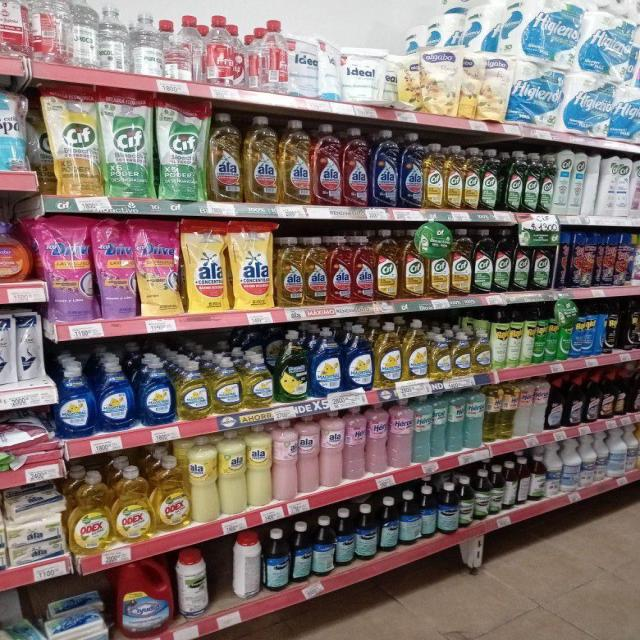ala_conc_amarillo: (208, 111, 242, 202), (244, 115, 278, 203), (280, 119, 311, 204), (275, 235, 303, 308), (304, 236, 328, 306)
ala_conc_azul: (371, 128, 398, 208), (399, 132, 423, 208)
ala_conc_rojo: (312, 123, 342, 206), (343, 127, 369, 207), (329, 234, 352, 304), (353, 234, 375, 303)
ala_crem_amarillo: (189, 434, 218, 522), (218, 430, 246, 515), (247, 423, 272, 508)
ala_crem_rosado: (273, 418, 298, 502), (320, 409, 343, 488), (298, 414, 319, 494)
ala_sachet_amarillo: (185, 218, 228, 312), (231, 220, 273, 310)
cif_conc_bot_amarilla: (400, 230, 425, 299), (376, 230, 399, 300), (451, 229, 472, 296), (424, 142, 444, 209), (444, 144, 463, 210), (426, 250, 449, 298), (464, 147, 481, 210)
cif_conc_botella_verde: (474, 228, 493, 294), (481, 148, 500, 210), (494, 228, 512, 292), (532, 233, 552, 290), (505, 150, 523, 212), (514, 230, 530, 291), (524, 152, 539, 212), (540, 152, 554, 214)
cif_conc_sachet_amarillo: (46, 83, 100, 197)
cif_conc_sachet_verde: (102, 88, 154, 198), (156, 94, 206, 201)
drive: (137, 217, 182, 317), (95, 217, 136, 319)
heroe: (388, 397, 412, 469), (344, 406, 365, 481), (366, 402, 387, 474), (412, 394, 430, 464), (465, 385, 484, 448), (516, 378, 532, 437), (532, 376, 547, 433)
magistral_con_amarillo: (176, 358, 208, 420), (374, 321, 402, 388), (210, 356, 241, 414), (242, 352, 274, 408), (403, 319, 427, 382), (429, 332, 451, 381), (452, 331, 471, 377), (472, 330, 491, 373)
magistral_con_azul: (56, 361, 96, 438), (98, 359, 135, 431), (138, 356, 174, 426), (309, 326, 342, 396), (343, 323, 373, 391)
odex: (70, 469, 112, 554), (113, 465, 151, 543), (154, 454, 189, 532)
